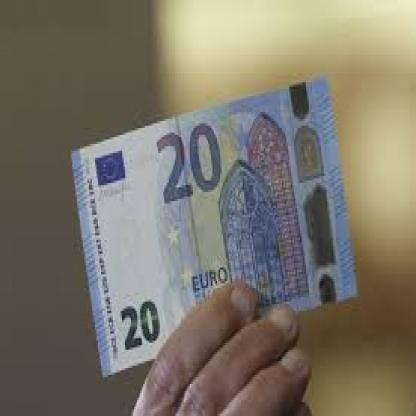billete: (71, 73, 357, 373)
